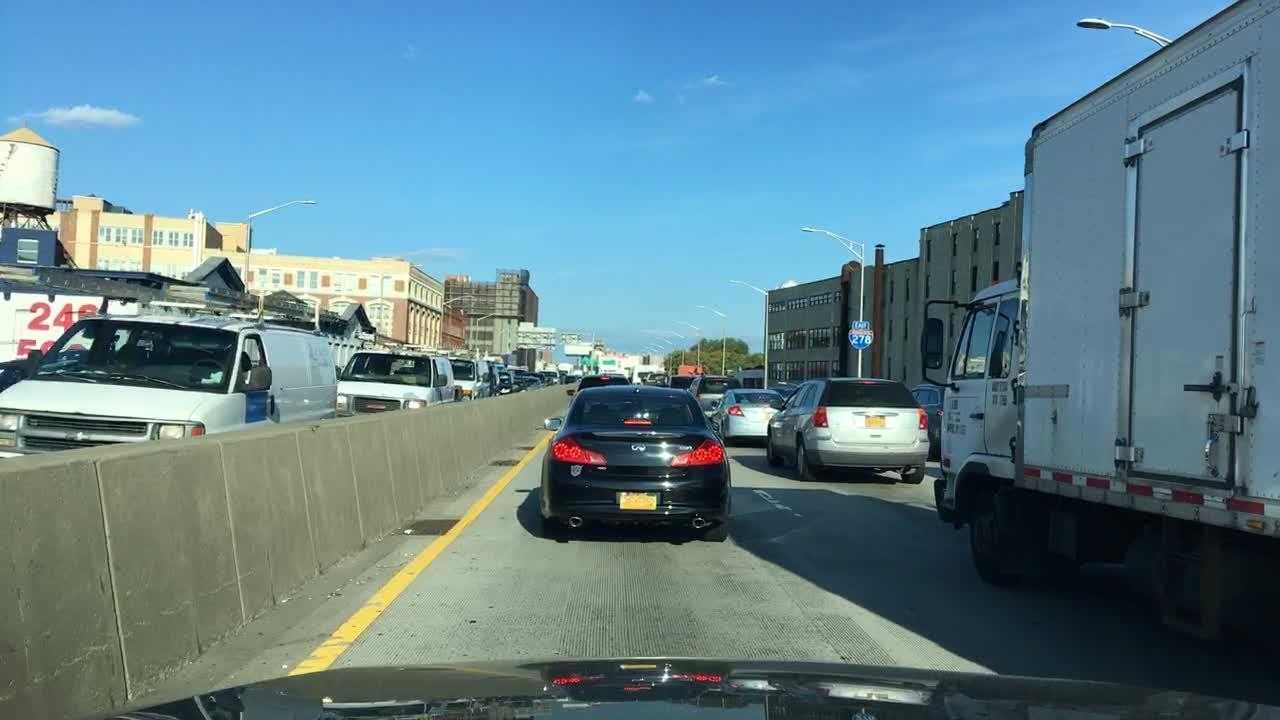Infiniti: (625, 437, 654, 461)
